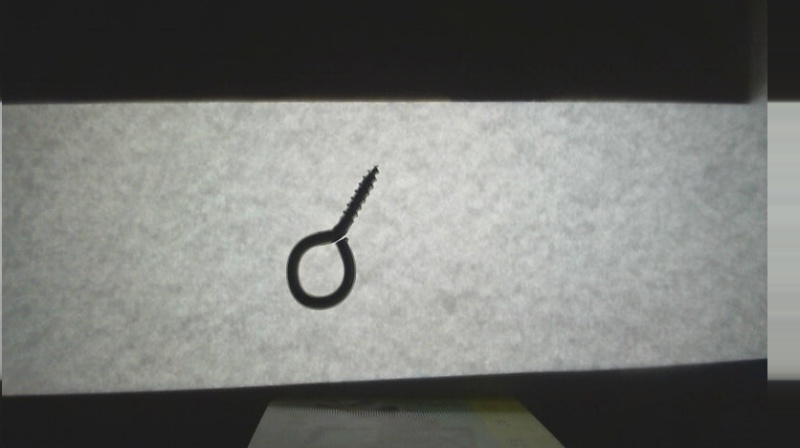O001: (280, 163, 383, 311)
